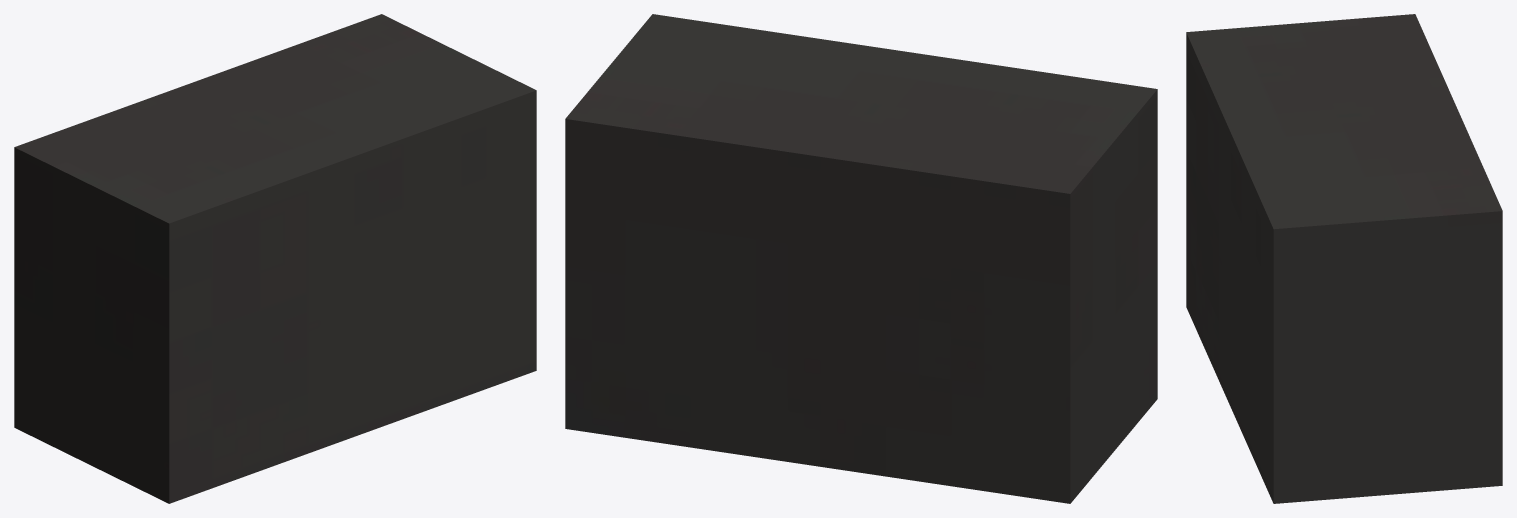
File: frame__wheel_axle_yoke.glb
3 views of the same model, side by side, from view 1: azimuth 30°, elevation 25°; view 2: azimuth 150°, elevation 25°; view 3: azimuth 270°, elevation 25° (orthographic). The views are drawn at different scales.
Parts seen in each view (by area): view 1: world; view 2: world; view 3: world.
Part boxes in pixels (bbox=[...]): world: bbox=[14, 14, 536, 503]; world: bbox=[565, 14, 1157, 503]; world: bbox=[1186, 14, 1502, 503].
Size of the model in its own units: 0.0874 by 0.052 by 0.0543.
1 material, 1 textured.
